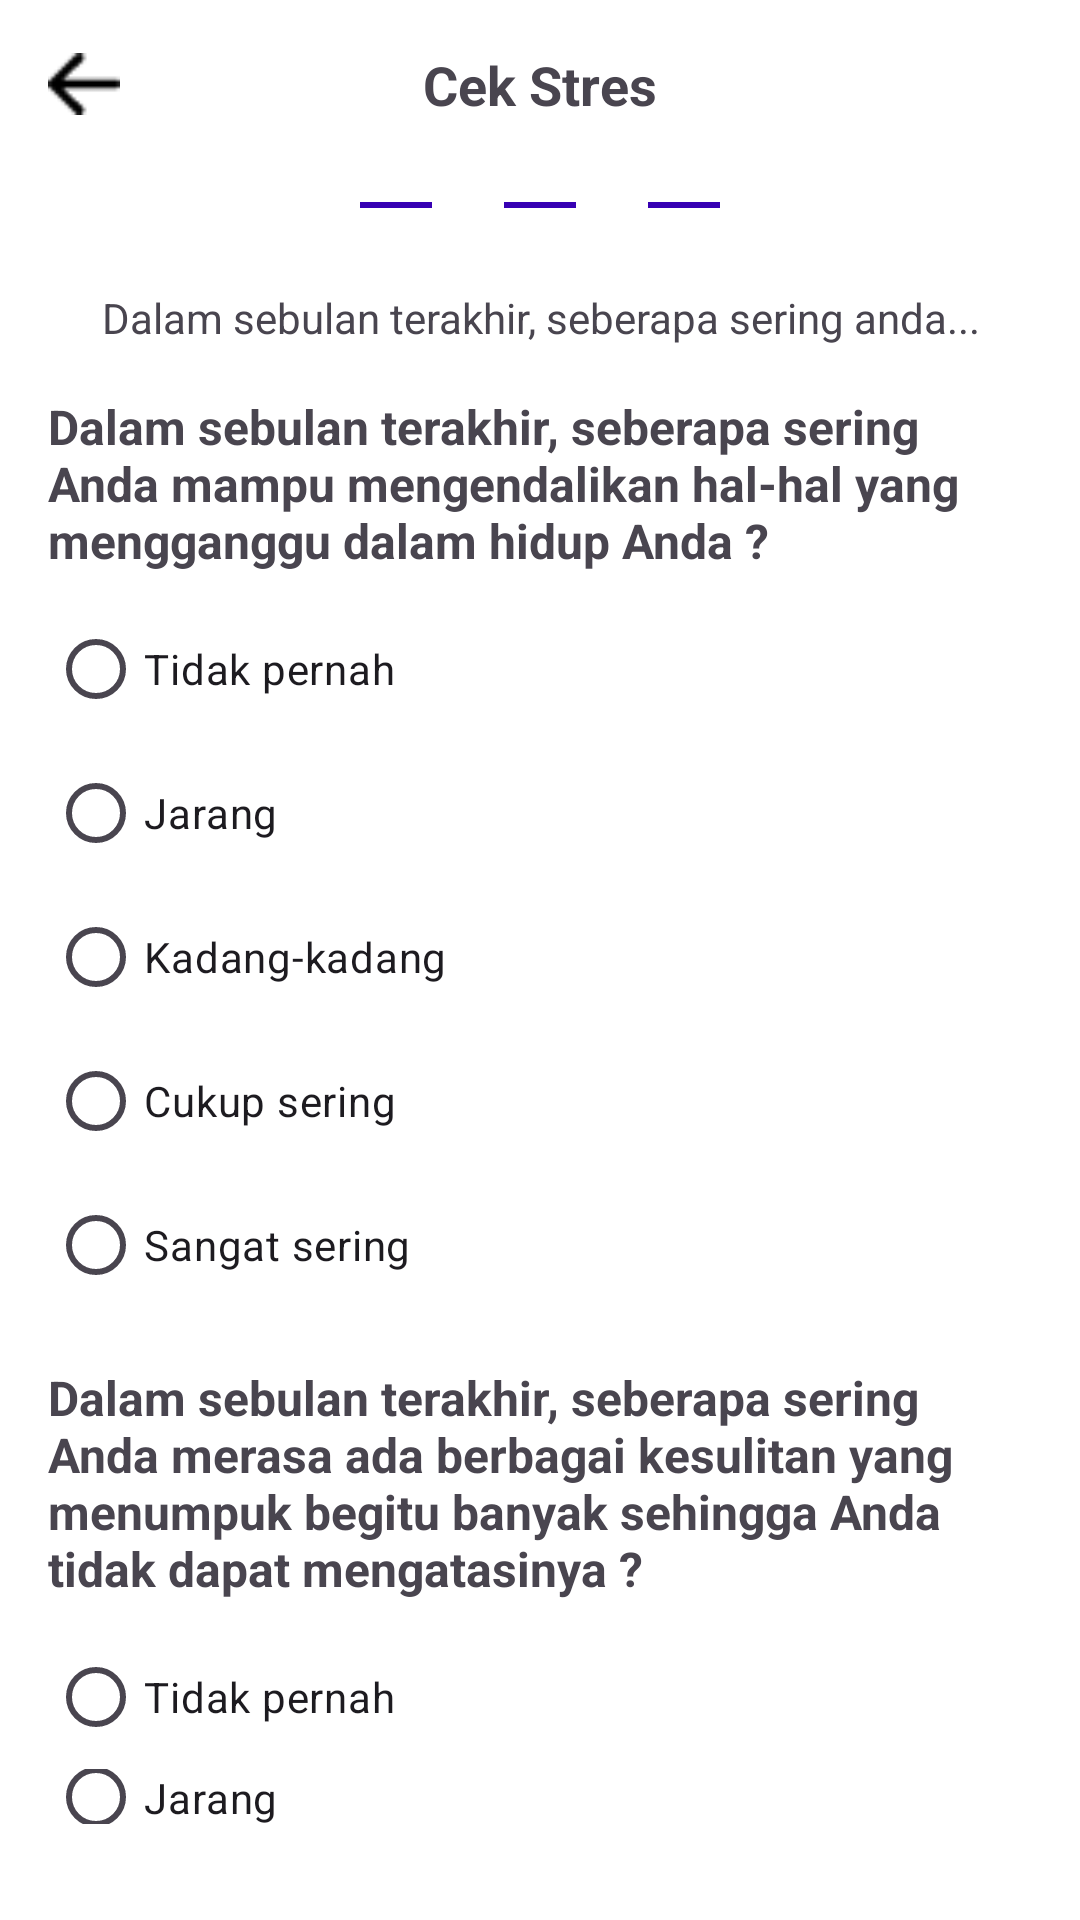

Icons on this 1080 × 1920 Android screen, each with its box as (x1, y1, x2, y2):
Kembali: (48, 53, 120, 115)
